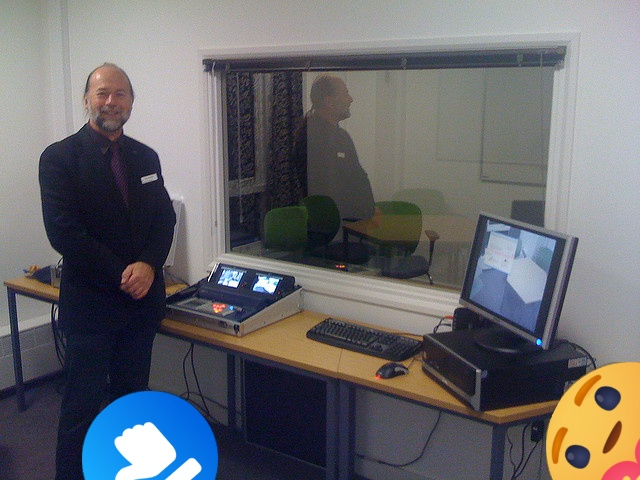care: (546, 362, 640, 480)
like: (82, 391, 218, 480)
